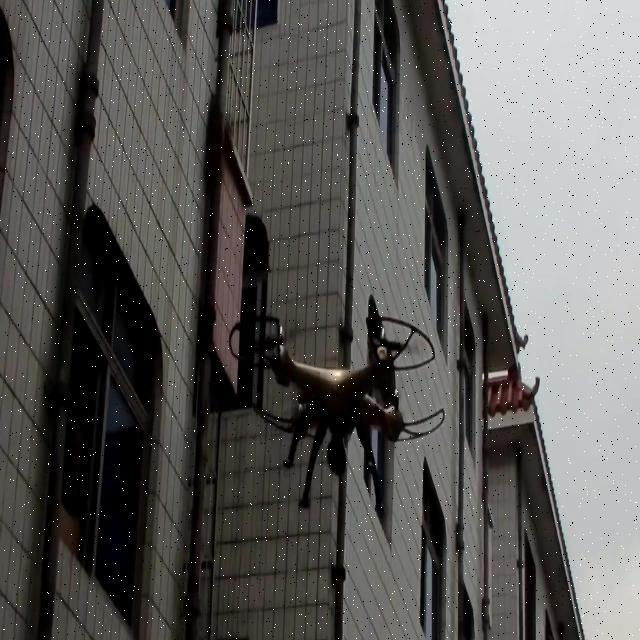UAV: (227, 290, 445, 514)
